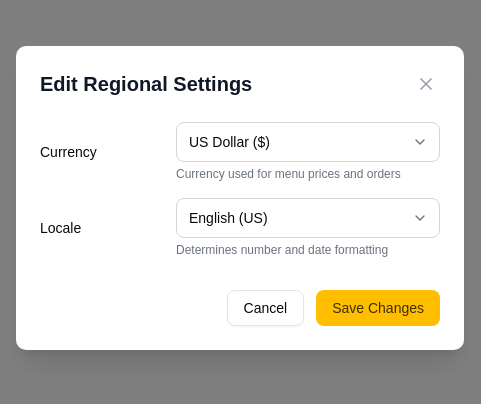
Test case: TenantSettingsForm › Form Submission - Error › should display generic error when action returns no error message
What coordinates should you click on to do the following:
click the button "Save Changes"
I would click on:
 (378, 308)
Its box is x1=316 y1=290 x2=440 y2=326.
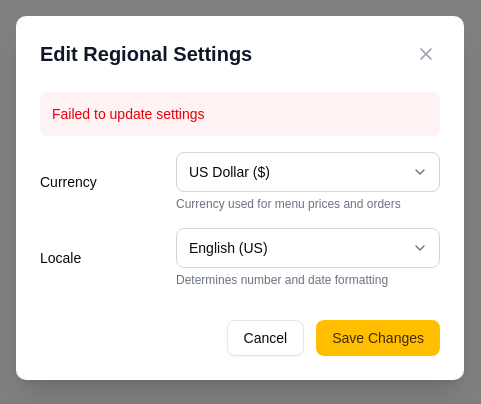
Expected: the text "Failed to update settings" is shown, x1=40 y1=92 x2=440 y2=136
